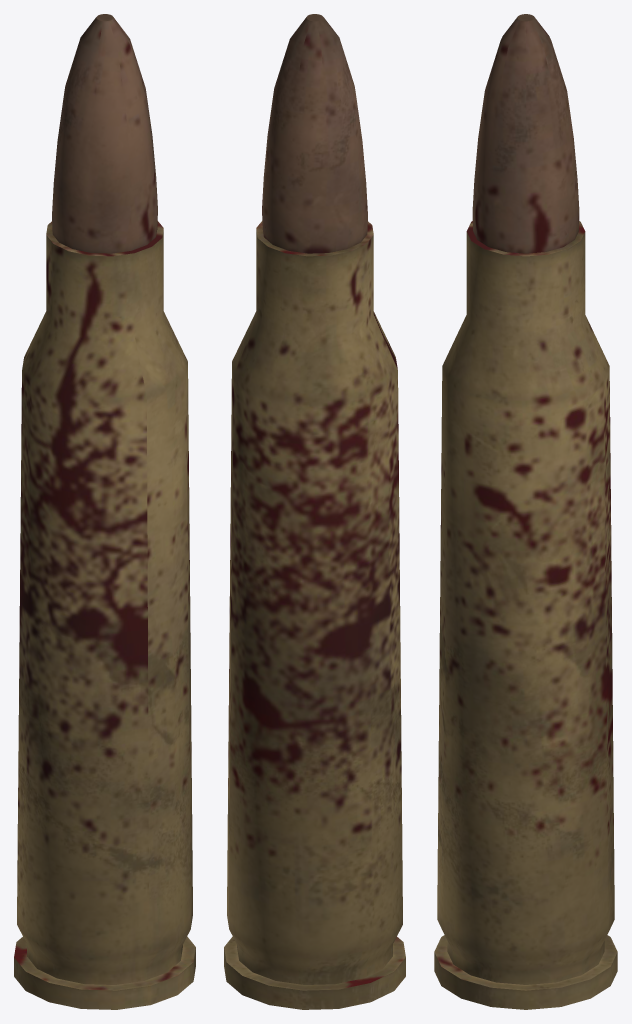
File: 5.56_blood.glb
3 views of the same model, side by side, from view 1: azimuth 30°, elevation 25°; view 2: azimuth 150°, elevation 25°; view 3: azimuth 270°, elevation 25° (orthographic).
Parts seen in each view (by area): view 1: 5.56_blood; view 2: 5.56_blood; view 3: 5.56_blood.
Boxes of the visible parts, x1,y1,x2,y2 form: 5.56_blood: (14,14,195,1009); 5.56_blood: (224,14,405,1009); 5.56_blood: (434,14,617,1009).
Size of the model in its own units: 0.1908 by 1.09 by 0.1908.
1 material, 1 textured.
